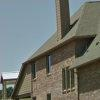Chimney: (51, 1, 72, 34)
